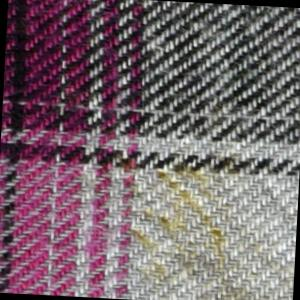Oil Stain: (100, 137, 300, 300)
